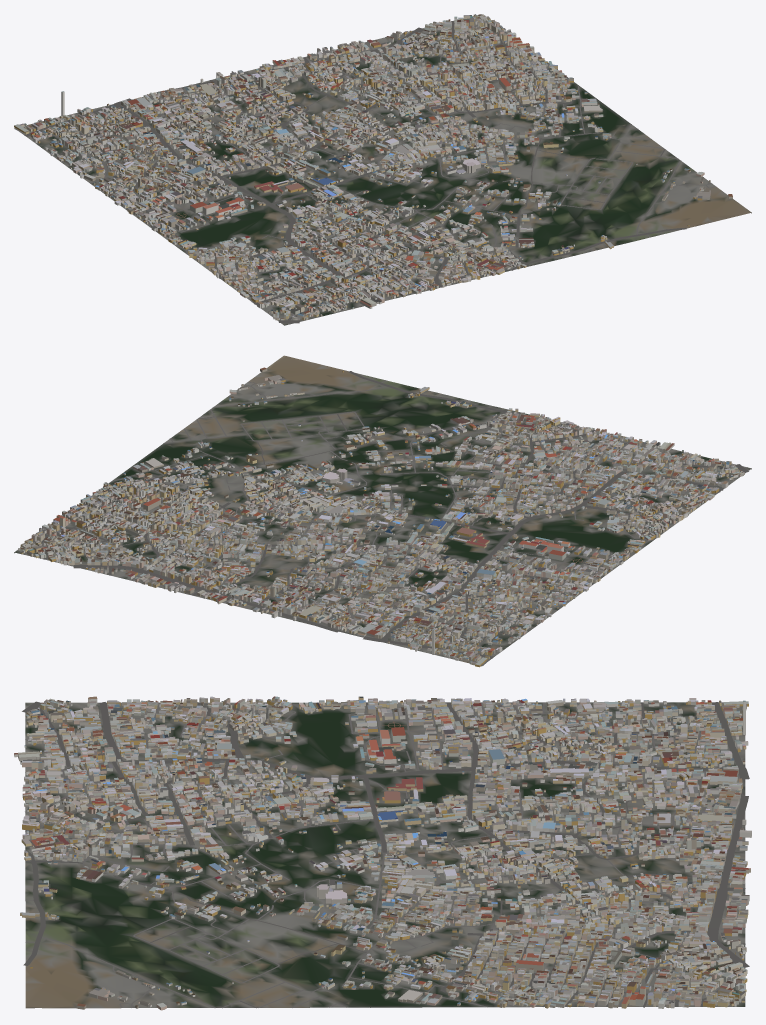
3 renders of one model, top to bottom at view 1: azimuth 30°, elevation 25°; view 2: azimuth 150°, elevation 25°; view 3: azimuth 270°, elevation 25°, orthographic. The views are drawn at different scales.
Parts seen in each view (by area): view 1: buildings, ground, roads; view 2: buildings, ground, roads; view 3: buildings, ground, roads.
Boxes of the visible parts, bbox=[...] form: buildings: bbox=[14, 14, 732, 320]; ground: bbox=[14, 14, 751, 325]; roads: bbox=[15, 21, 715, 324]; buildings: bbox=[18, 367, 744, 667]; ground: bbox=[14, 355, 751, 666]; roads: bbox=[33, 371, 748, 665]; buildings: bbox=[14, 696, 751, 1010]; ground: bbox=[25, 702, 745, 1008]; roads: bbox=[22, 701, 749, 1008].
Bounding box in the file's own units: 1417 × 76.67 × 1436.
